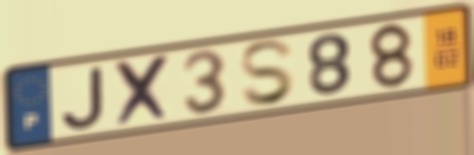3: (181, 46, 231, 117)
8: (366, 20, 418, 93), (305, 32, 354, 98)
J: (59, 63, 108, 132)
S: (237, 37, 298, 108)
X: (112, 51, 174, 130)
